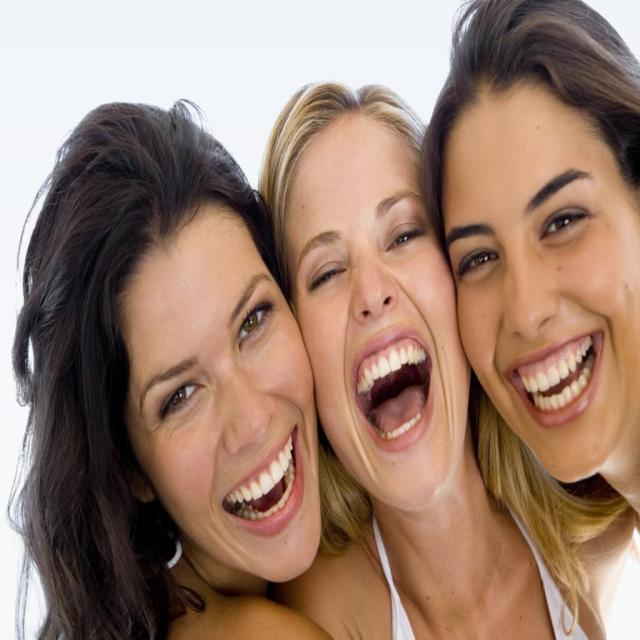Face: (438, 26, 640, 485), (272, 89, 481, 515), (112, 192, 329, 592)
